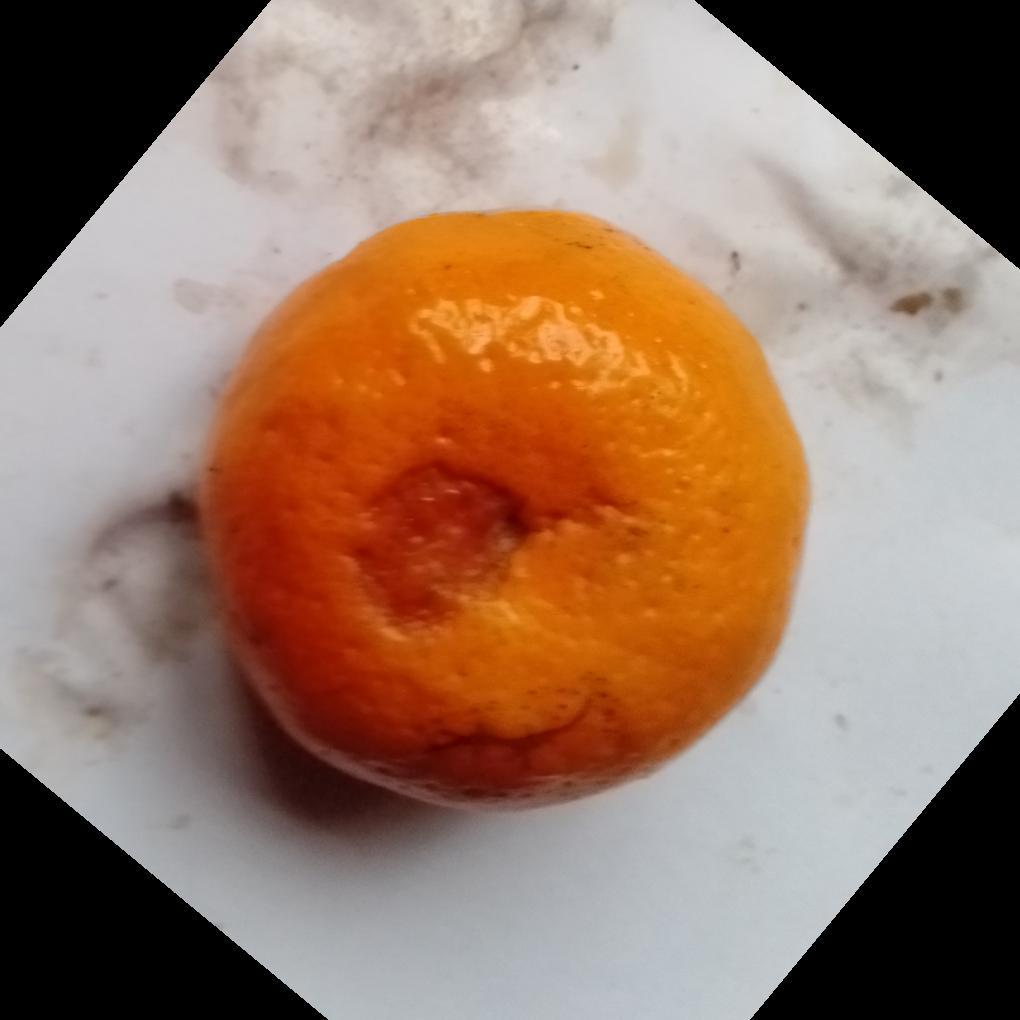FreshOrange: (194, 210, 812, 816)
